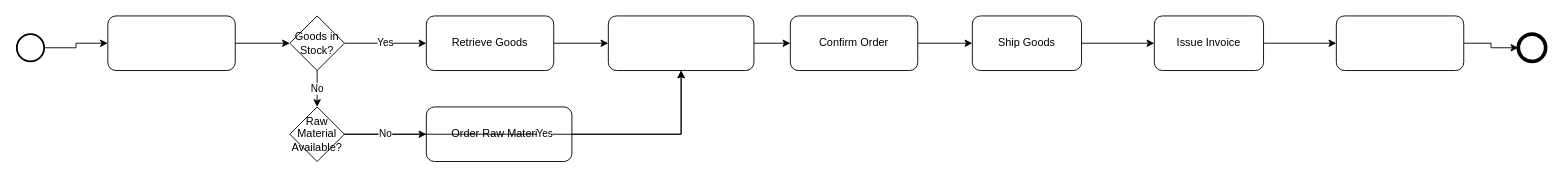
Image size: 1562x177. Some labels were removed from this diagram. Here are the shapes that lost their labels. From the top down, the centre of each, then its label:
At point 171,43: "Check Stock".
At point 680,43: "Assemble Product".
At point 1399,43: "Receive Payment".
